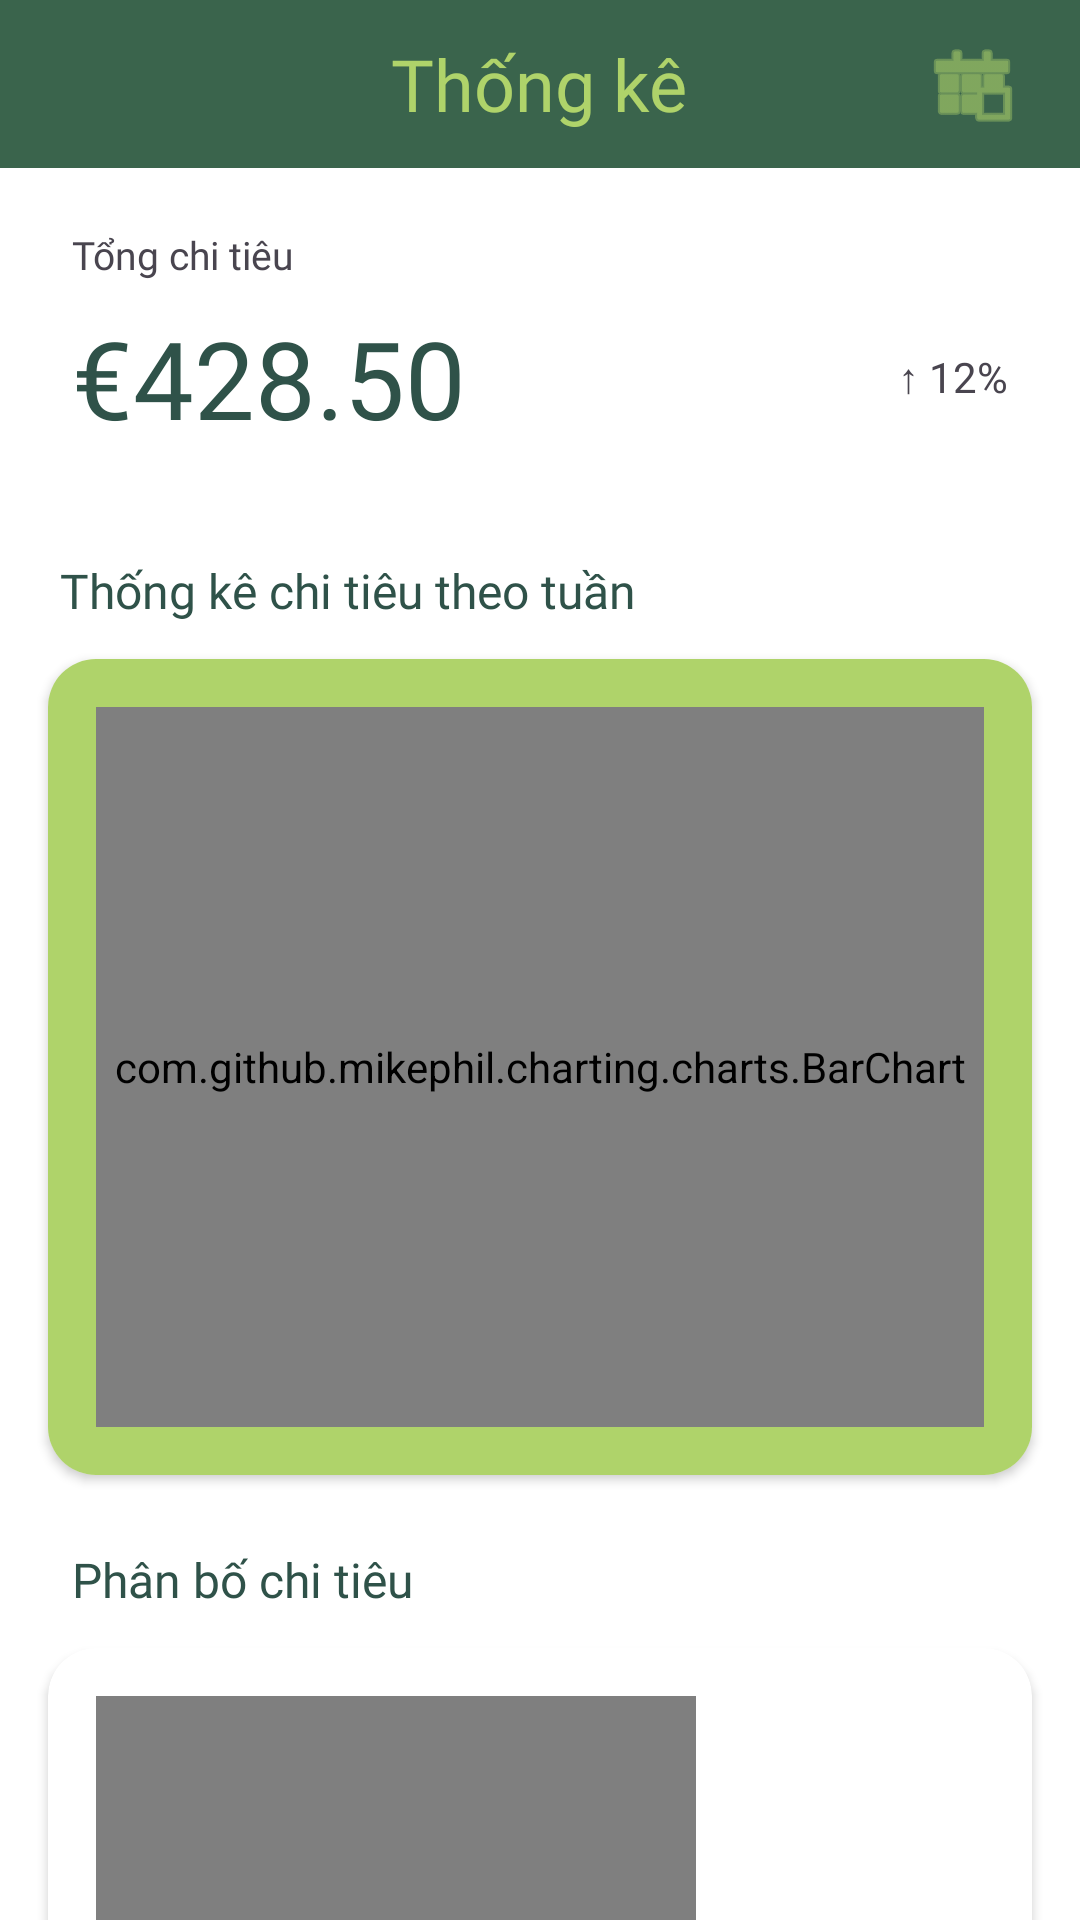

Screen size 1080w x 1920h. Icon name, then its box in pixels as (x1, y1, x2, y2):
Chọn ngày: (934, 49, 1012, 122)
